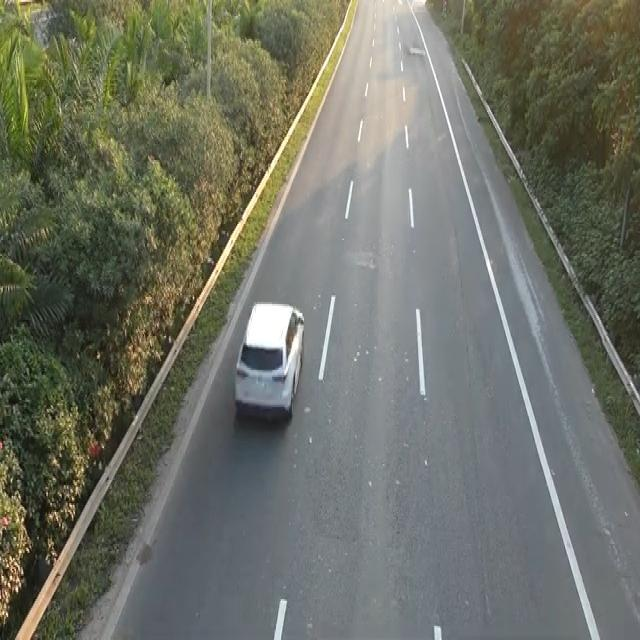car: (231, 297, 306, 423)
